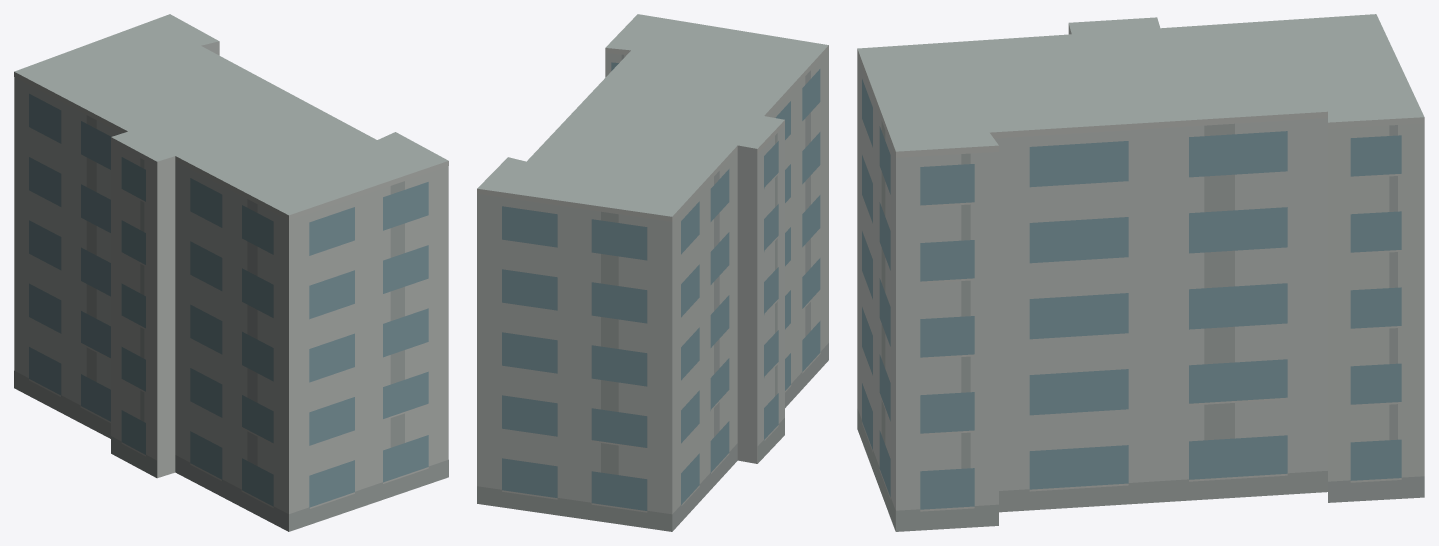
Rendered from survey-upis-32574943.glb.
3 renders of one model, left to right at view 1: azimuth 30°, elevation 25°; view 2: azimuth 150°, elevation 25°; view 3: azimuth 270°, elevation 25°, orthographic. The views are drawn at different scales.
Parts seen in each view (by area): view 1: survey-upis-32574943.tmp; view 2: survey-upis-32574943.tmp; view 3: survey-upis-32574943.tmp.
Boxes of the visible parts, x1=… form: survey-upis-32574943.tmp: x1=14, y1=14, x2=448, y2=531; survey-upis-32574943.tmp: x1=477, y1=14, x2=828, y2=531; survey-upis-32574943.tmp: x1=857, y1=14, x2=1424, y2=531.
Bounding box in the file's own units: 11.42 × 14.7 × 19.88.
